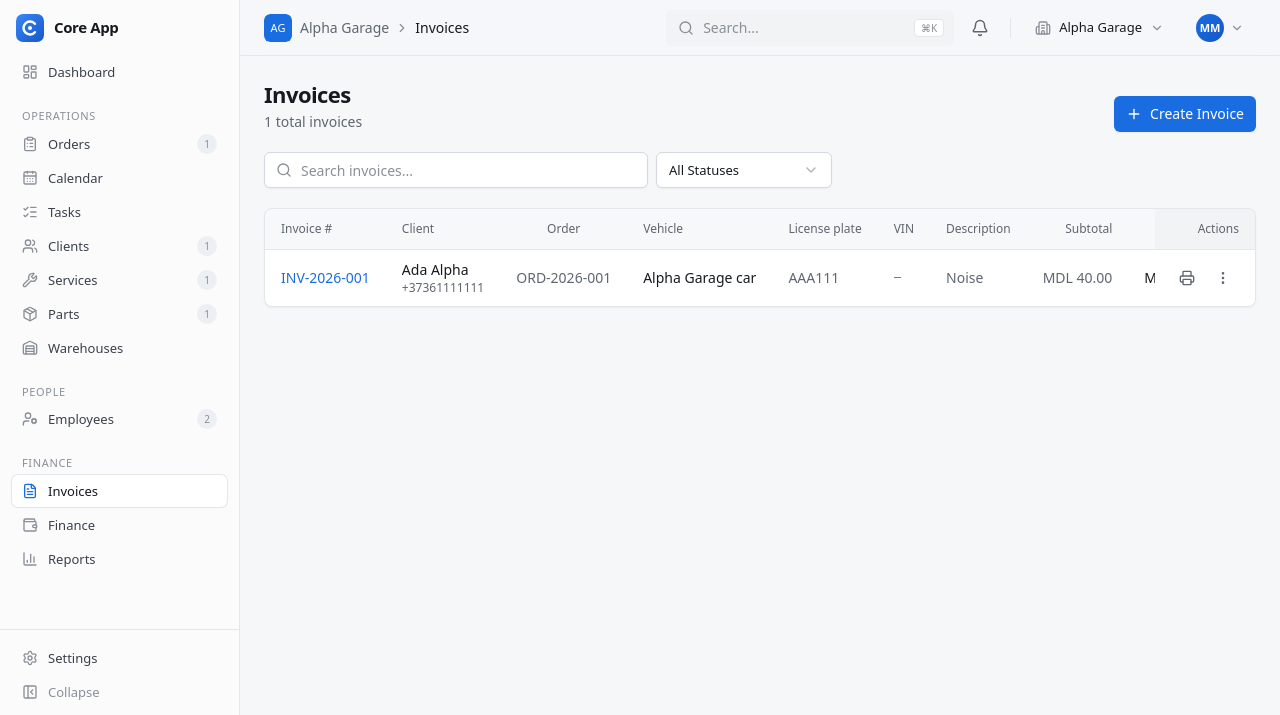
Test: invoices page › opens an invoice from its row with the billed services and marks it paid from the panel
What coordinates should you click on to do the following:
click the text "Ada Alpha"
I would click on:
 (435, 269)
Its box is [402, 260, 469, 278].
(page scrolled)
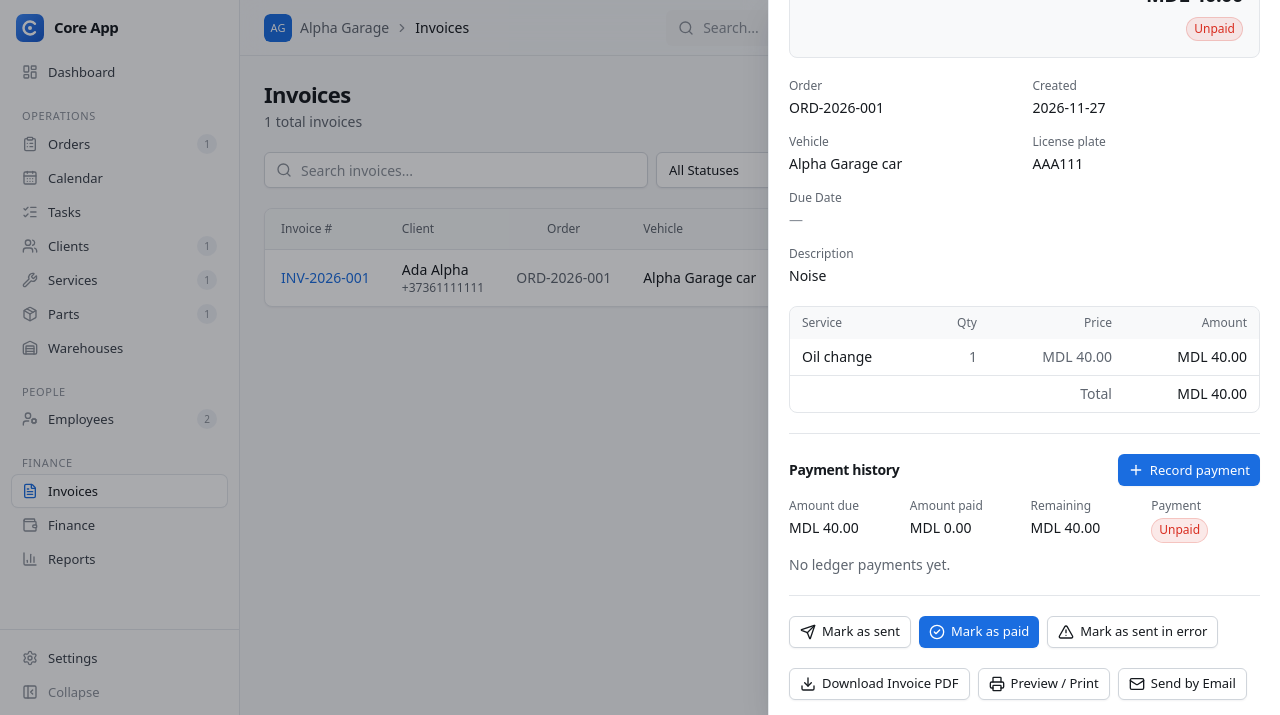
Expected: the text "Oil change" is shown, [790, 339, 926, 376]
Expected: the text "ORD-2026-001" is shown, [789, 98, 884, 117]
Expected: the text "Alpha Garage car" is shown, [789, 154, 902, 173]
What coordinates should you click on to do the following:
click the button "Mark as paid"
I would click on:
 (979, 632)
Its box is [919, 616, 1039, 648].
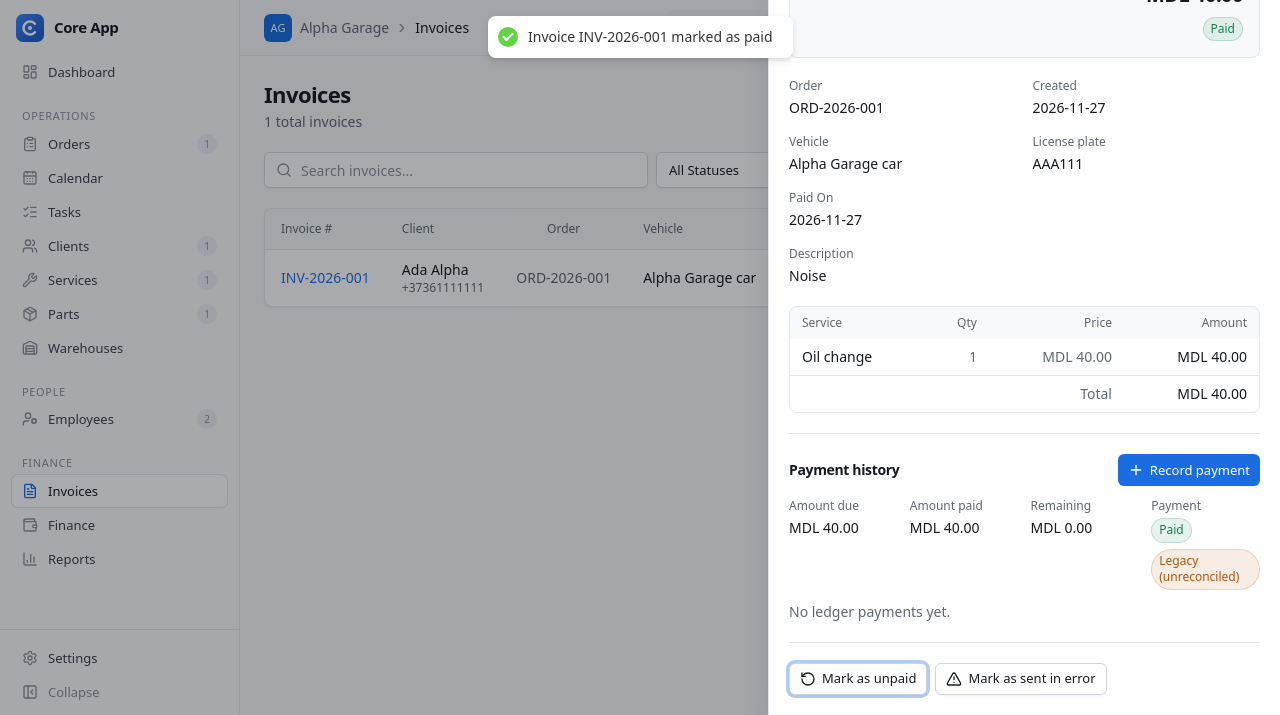
Expected: the button "Mark as unpaid" is shown, [789, 662, 927, 694]
